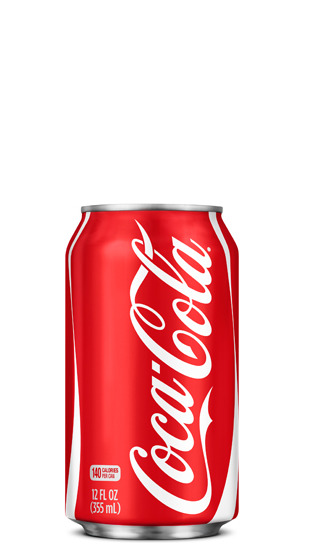coke: (62, 206, 240, 538)
